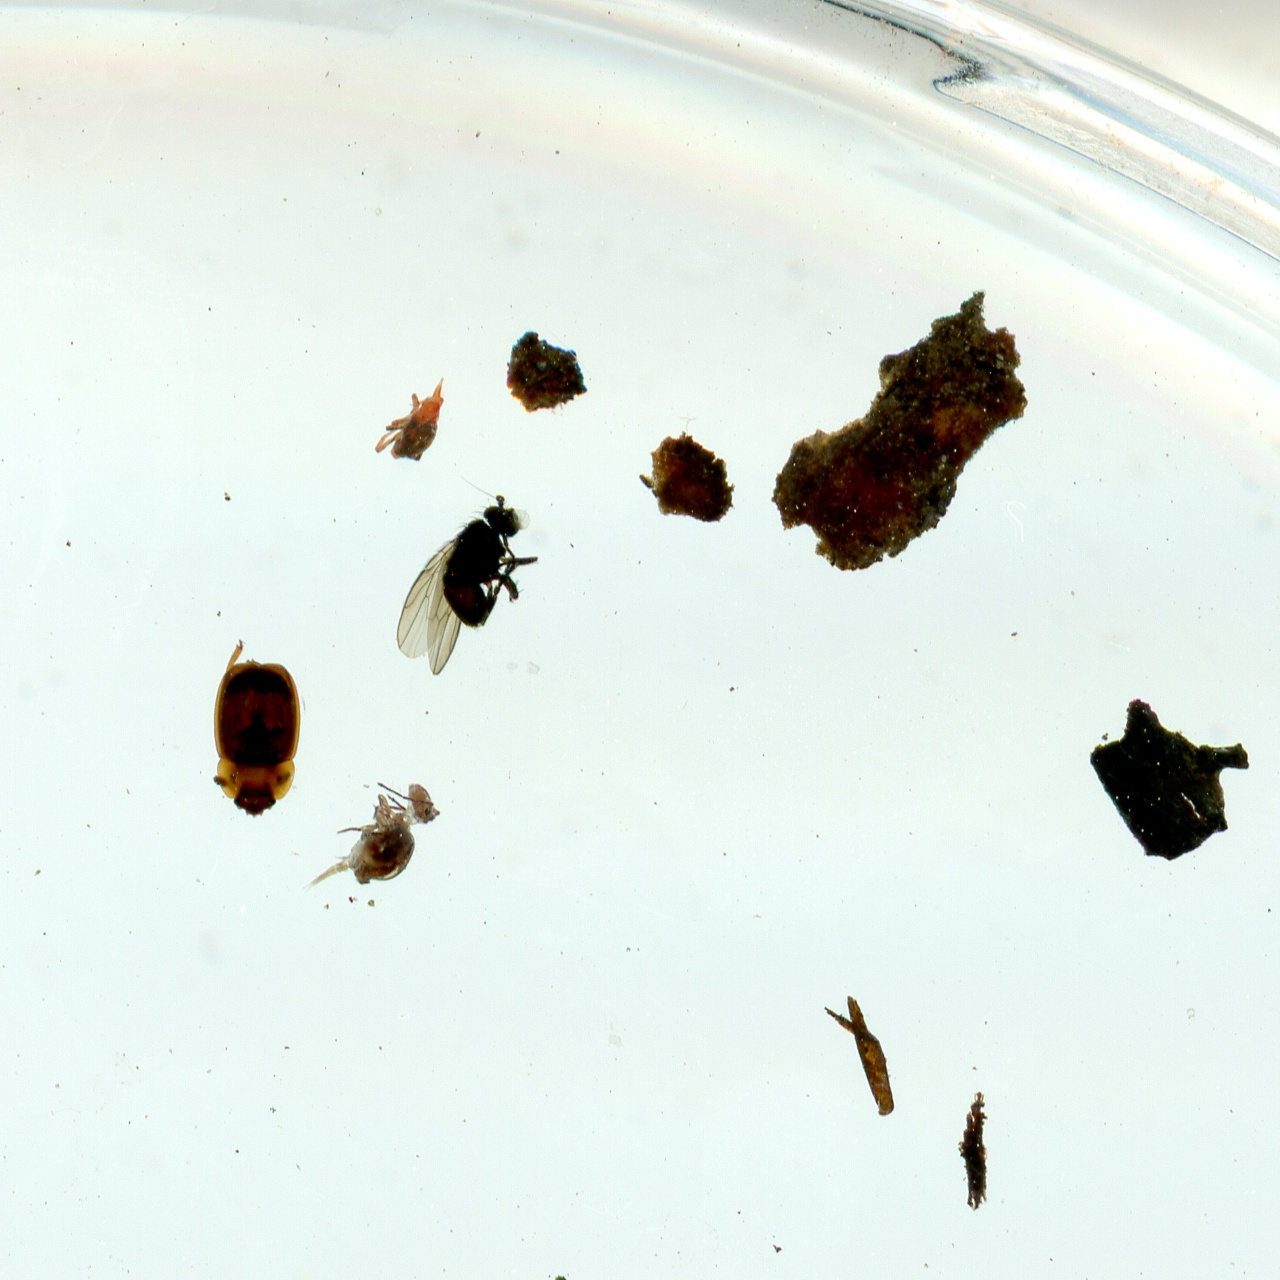arthropod: (384, 492, 545, 672), (203, 640, 305, 818), (305, 779, 450, 896), (369, 377, 451, 467)
